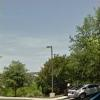Tree: (60, 11, 100, 84)
